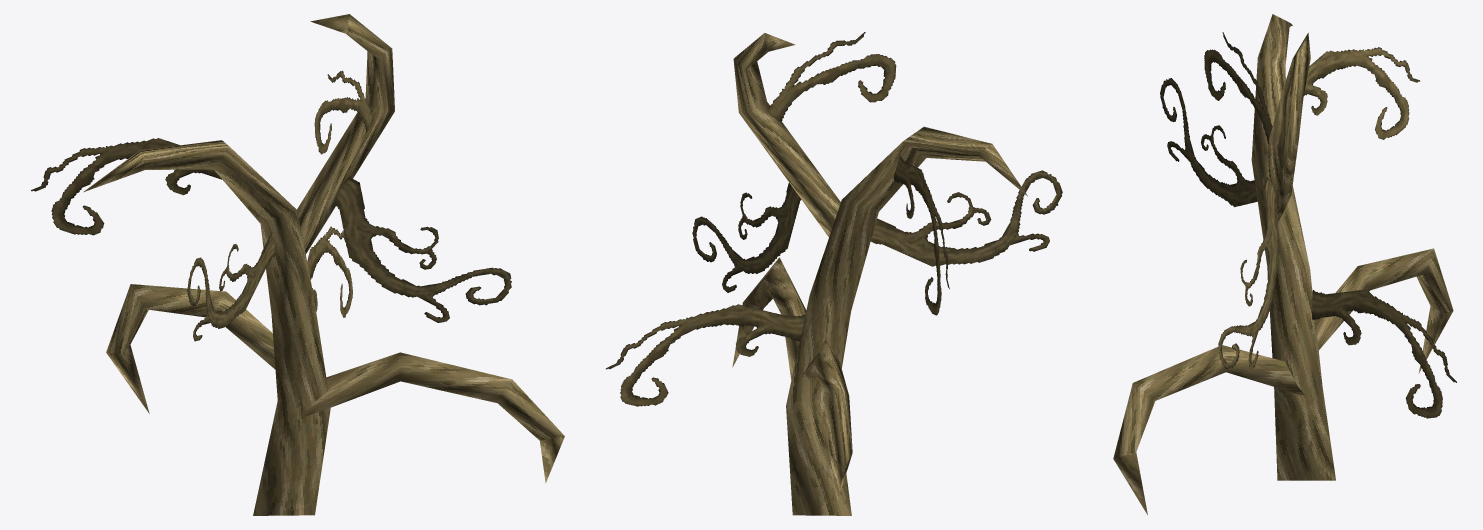
Rendered from INST_OH_SPIKE_SHRUB_02.fbx.
3 views of the same model, side by side, from view 1: azimuth 30°, elevation 25°; view 2: azimuth 150°, elevation 25°; view 3: azimuth 270°, elevation 25° (orthographic). The views are drawn at different scales.
Visible parts, largest first — view 1: INST_OH_SPIKE_SHRUB_02; view 2: INST_OH_SPIKE_SHRUB_02; view 3: INST_OH_SPIKE_SHRUB_02.
Part boxes in pixels (x1,y1,x2,y2): INST_OH_SPIKE_SHRUB_02: (31,14,564,515); INST_OH_SPIKE_SHRUB_02: (606,32,1062,515); INST_OH_SPIKE_SHRUB_02: (1113,14,1456,515).
Bounding box in the file's own units: 12567 × 14327 × 10023.
3 materials, 3 textured.
